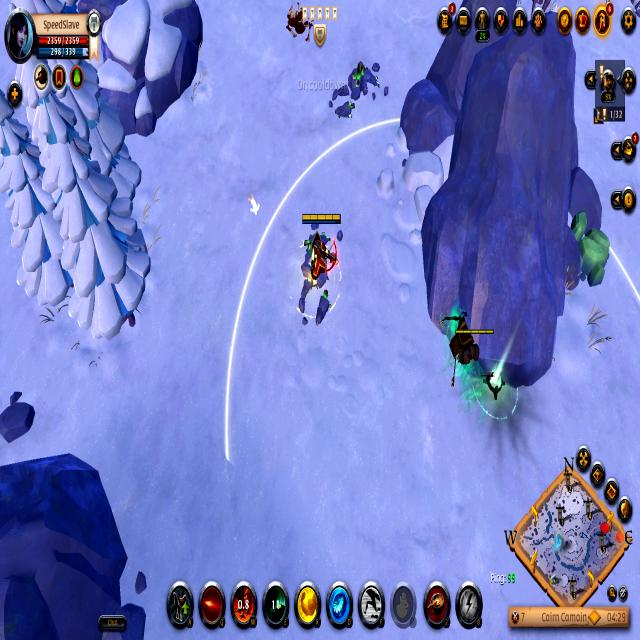player: (326, 54, 386, 126)
red: (296, 208, 343, 330)
tree: (574, 222, 614, 294)
